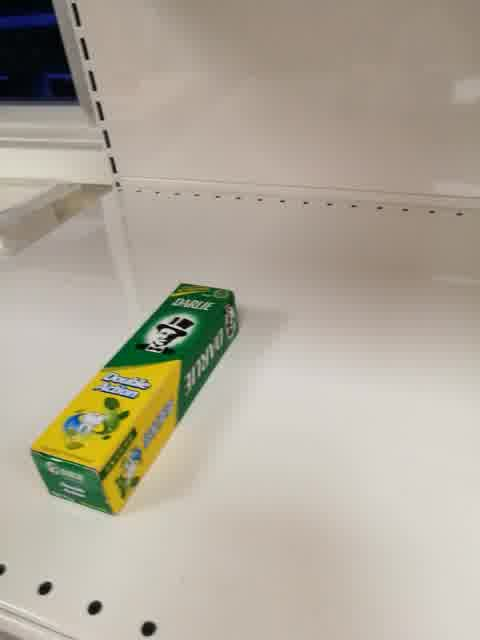toothpaste: (30, 282, 242, 517)
